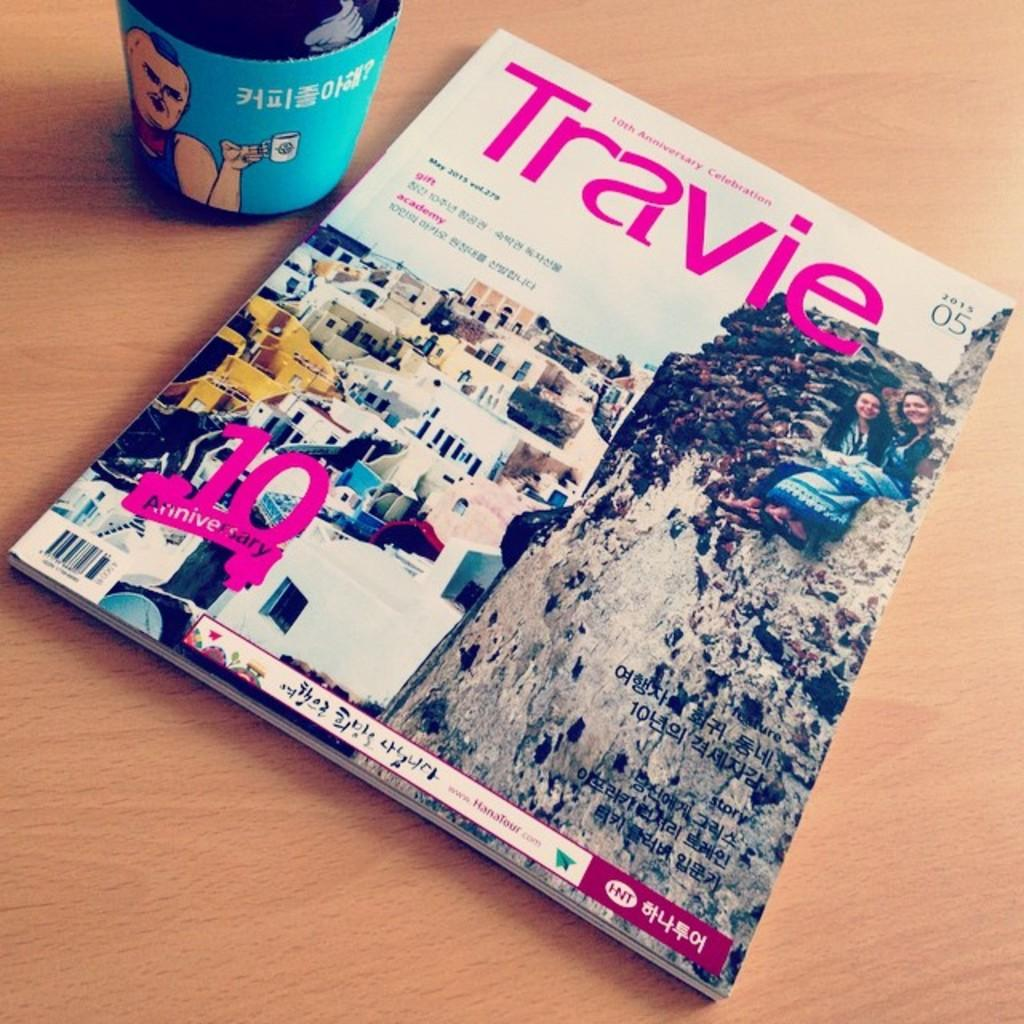book: (22, 59, 986, 1018)
